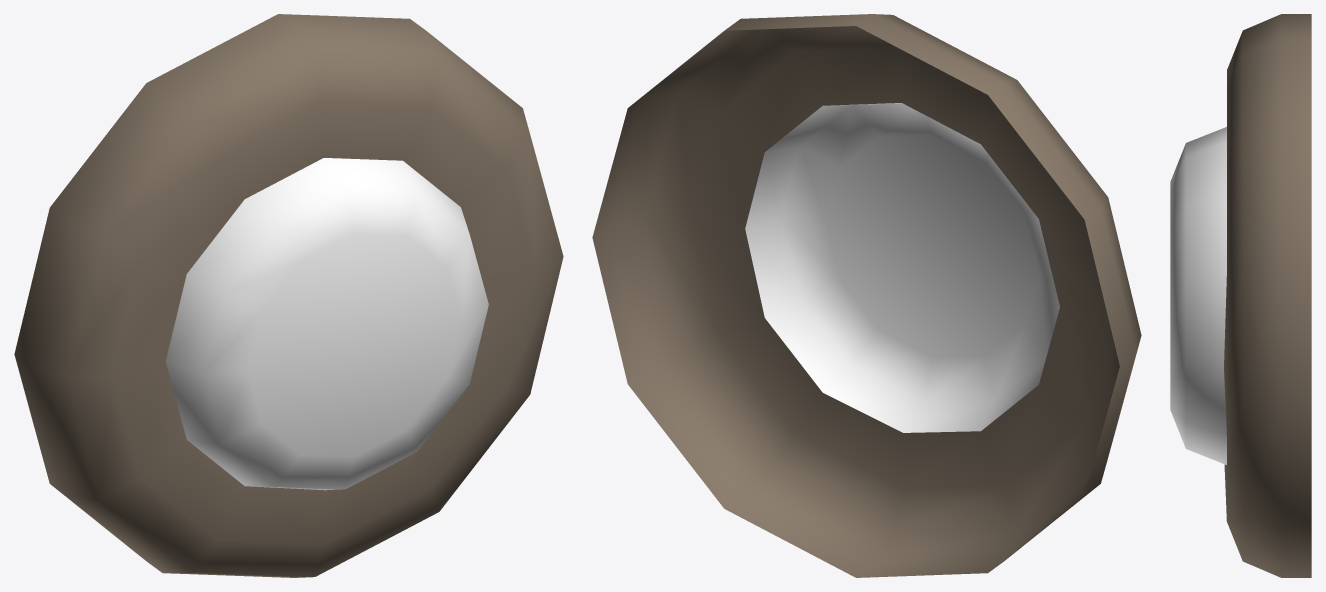
Rendered from Mesh_Lampe_01.fbx.
The picture shows the model from 3 angles, left to right: view 1: azimuth 30°, elevation 25°; view 2: azimuth 150°, elevation 25°; view 3: azimuth 270°, elevation 25°; orthographic projection. The views are drawn at different scales.
Parts seen in each view (by area): view 1: Mesh_Lampe_01; view 2: Mesh_Lampe_01; view 3: Mesh_Lampe_01.
Boxes of the visible parts, box(x1,y1,x2,y2) form: Mesh_Lampe_01: box(14, 14, 563, 577); Mesh_Lampe_01: box(592, 14, 1141, 577); Mesh_Lampe_01: box(1170, 14, 1311, 577).
Bounding box in the file's own units: 20.57 × 20.57 × 5.14.
